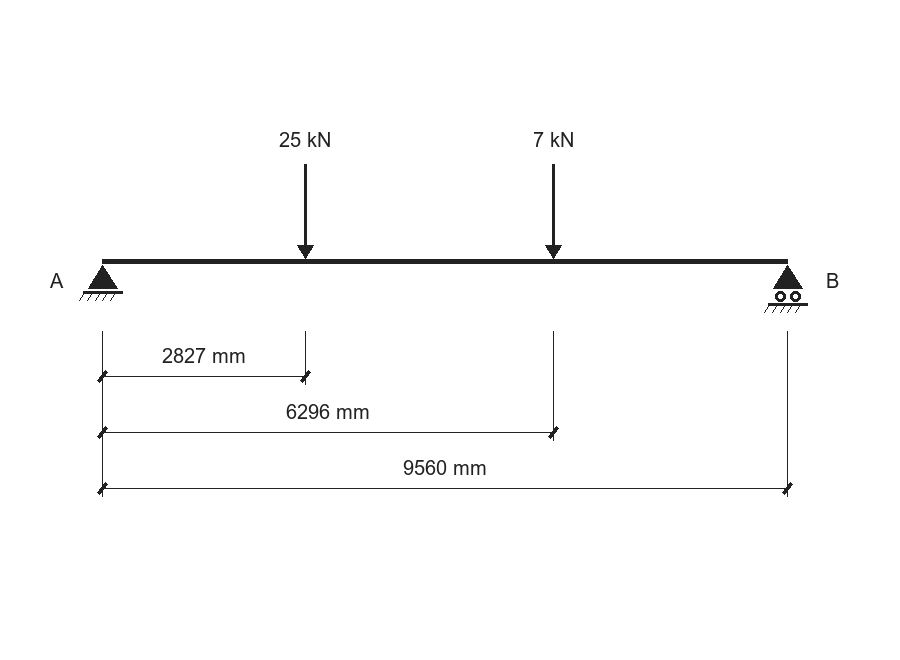pin_support: (79, 265, 123, 301)
point_load: (297, 164, 314, 259), (545, 164, 562, 259)
roller_support: (764, 265, 808, 313)
